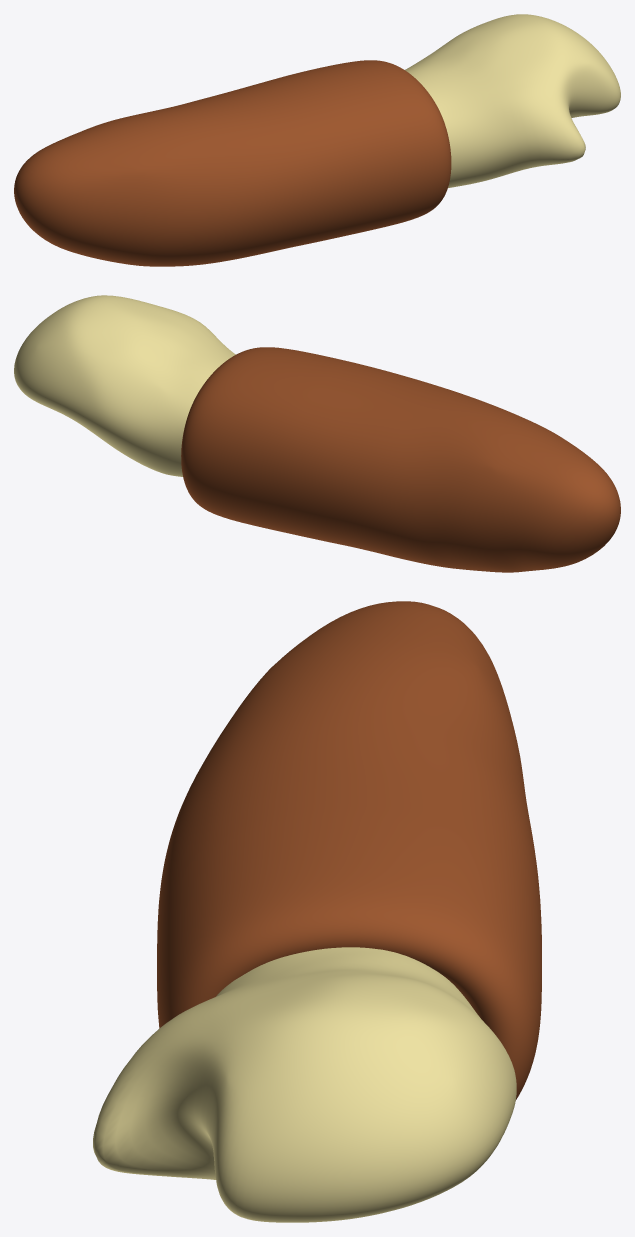
The model's file is BrazoIzquierdo.obj.
3 renders of one model, top to bottom at view 1: azimuth 30°, elevation 25°; view 2: azimuth 150°, elevation 25°; view 3: azimuth 270°, elevation 25°, orthographic. The views are drawn at different scales.
Visible parts, largest first — view 1: BrazoIzq, ManoIzq; view 2: BrazoIzq, ManoIzq; view 3: BrazoIzq, ManoIzq.
Boxes of the visible parts, x1=… form: BrazoIzq: x1=14, y1=60, x2=451, y2=266; ManoIzq: x1=405, y1=14, x2=620, y2=187; BrazoIzq: x1=181, y1=347, x2=620, y2=572; ManoIzq: x1=14, y1=295, x2=235, y2=476; BrazoIzq: x1=157, y1=601, x2=541, y2=1100; ManoIzq: x1=93, y1=947, x2=516, y2=1222.
Bounding box in the file's own units: 1.53 × 0.3941 × 0.5235.
